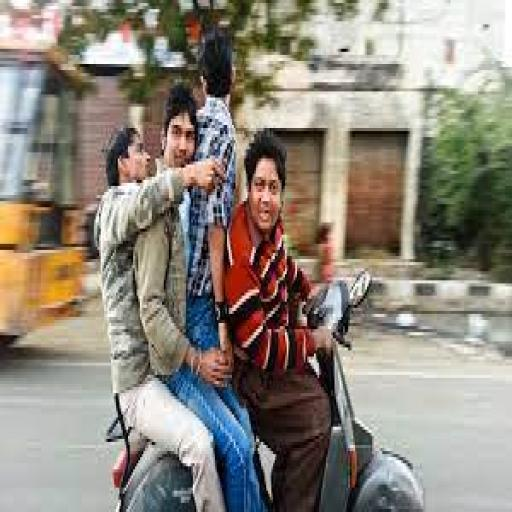overloading: (102, 262, 425, 509)
